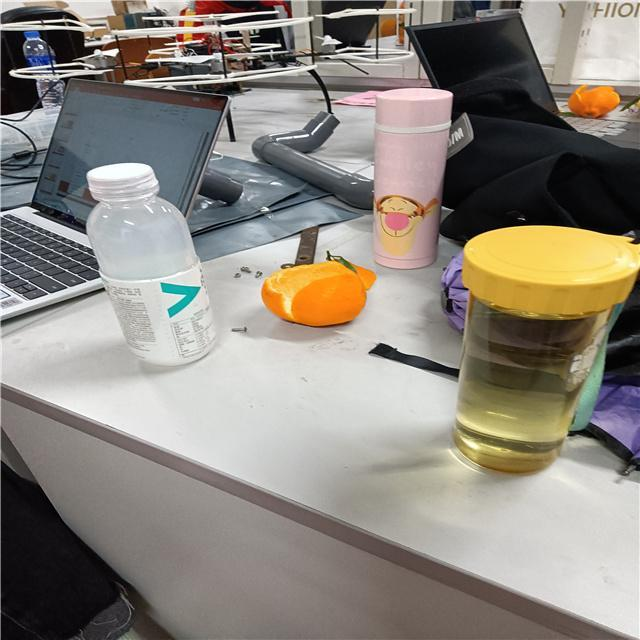orange-peel: (259, 254, 375, 328)
